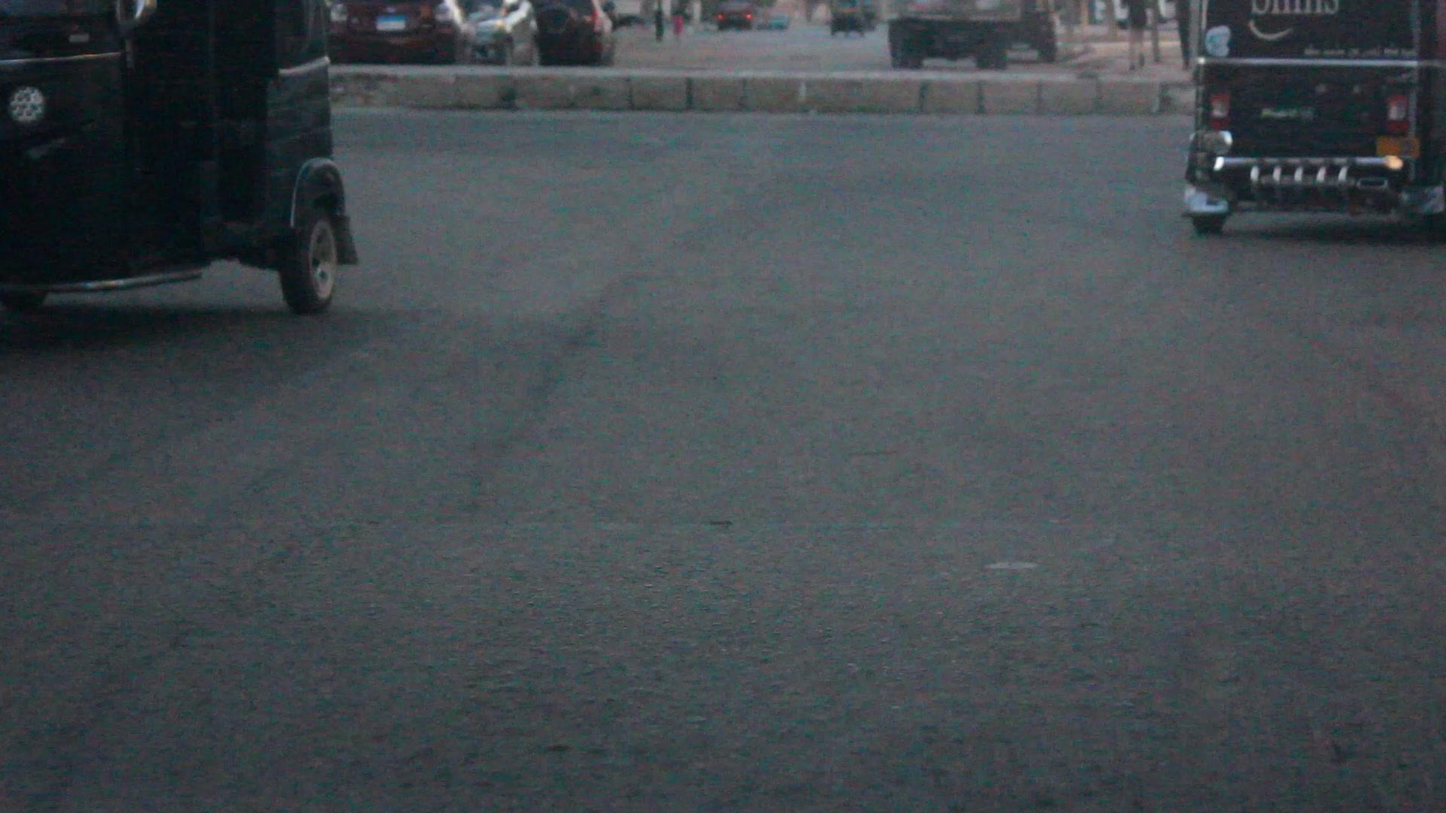Bump: (0, 525, 1446, 813)
